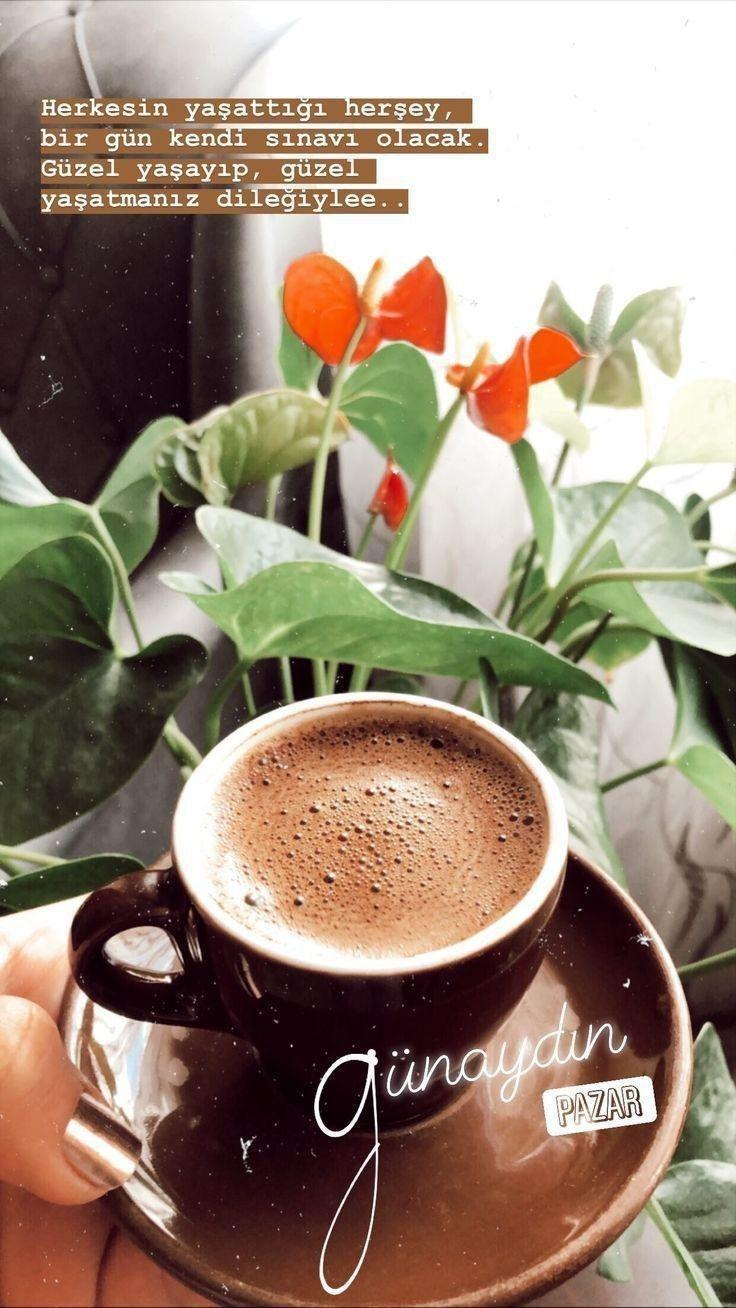cup-handle: (67, 687, 572, 1145)
